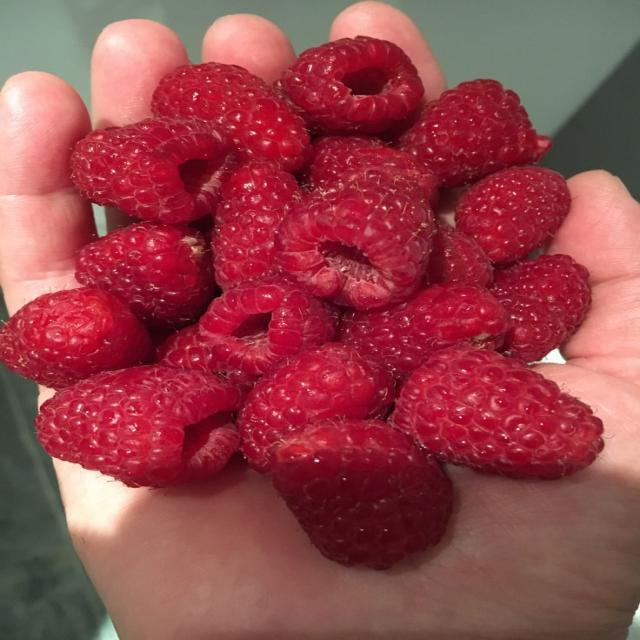raspberry: (392, 346, 603, 478), (272, 420, 452, 569), (36, 366, 239, 486), (276, 170, 434, 309), (239, 343, 393, 472), (71, 118, 236, 223), (152, 62, 309, 170), (397, 79, 551, 186), (339, 284, 510, 378), (0, 288, 151, 388), (76, 223, 215, 327), (281, 36, 423, 133), (199, 278, 336, 375), (455, 167, 571, 266), (213, 162, 301, 290), (309, 137, 439, 206), (491, 254, 591, 337), (156, 325, 259, 388), (212, 211, 284, 290), (215, 161, 302, 225), (499, 297, 568, 362), (305, 136, 385, 189), (427, 222, 493, 286)
